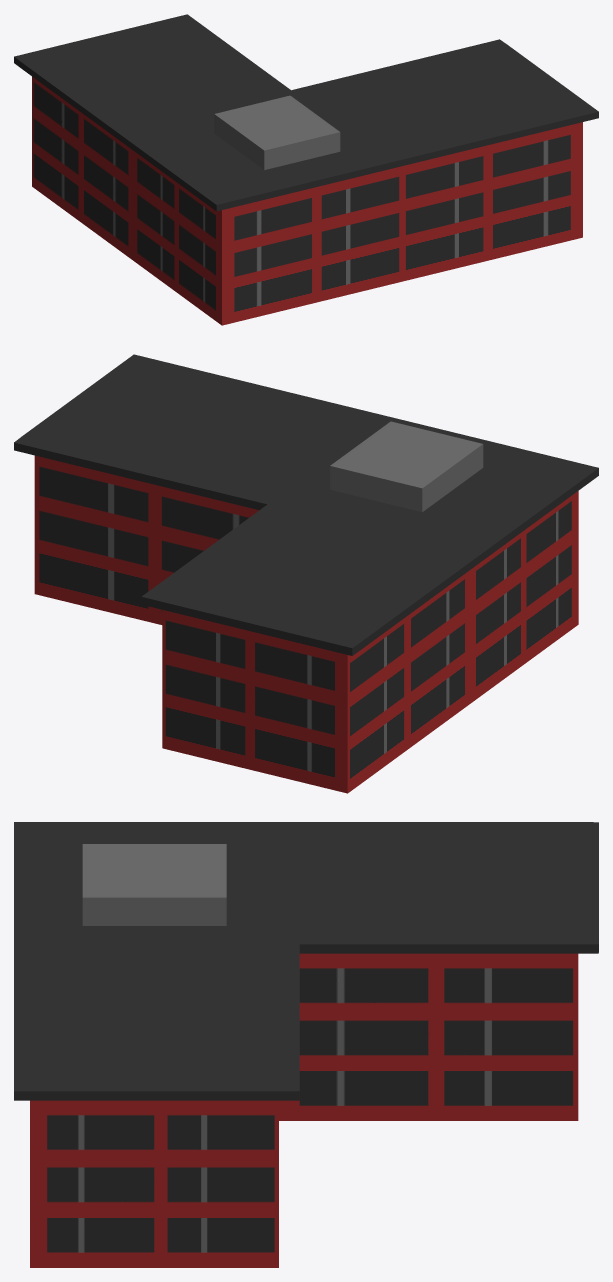
File: Building 03.FBX
3 views of the same model, one above another, from view 1: azimuth 30°, elevation 25°; view 2: azimuth 150°, elevation 25°; view 3: azimuth 270°, elevation 25° (orthographic). The views are drawn at different scales.
Visible parts, largest first — view 1: Box001; view 2: Box001; view 3: Box001.
Part boxes in pixels (x1,y1,x2,y2): Box001: (14,14,598,325); Box001: (14,354,598,793); Box001: (14,822,598,1267).
Bounding box in the file's own units: 80.9 × 29.72 × 74.28.
